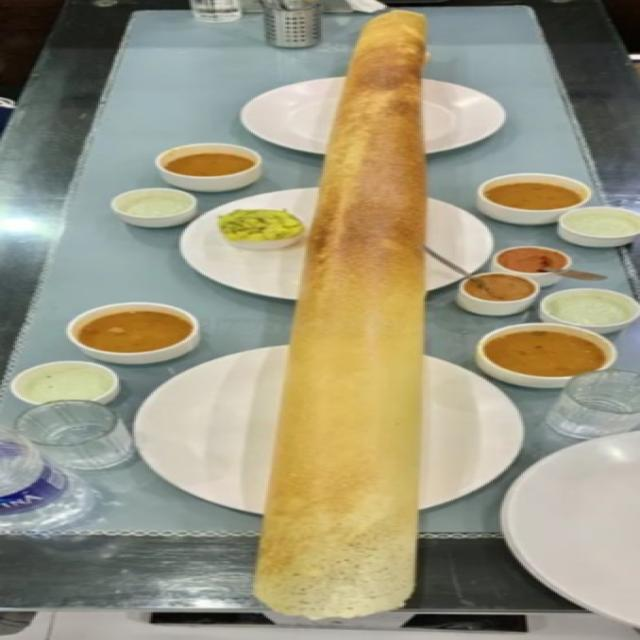CURRY: (213, 208, 304, 252)
DOSA: (251, 10, 429, 626)
SAMBAR: (474, 323, 606, 390), (66, 302, 202, 365), (476, 172, 593, 226), (159, 144, 262, 191)
WHITE CHUTNEY: (538, 288, 638, 338), (111, 188, 200, 231), (557, 207, 638, 248)
